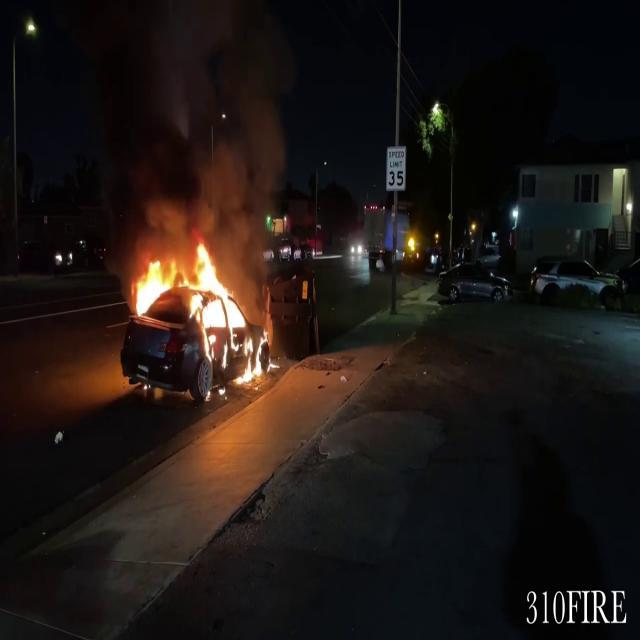Fire: (127, 236, 266, 388)
Smoke: (98, 0, 296, 244)
